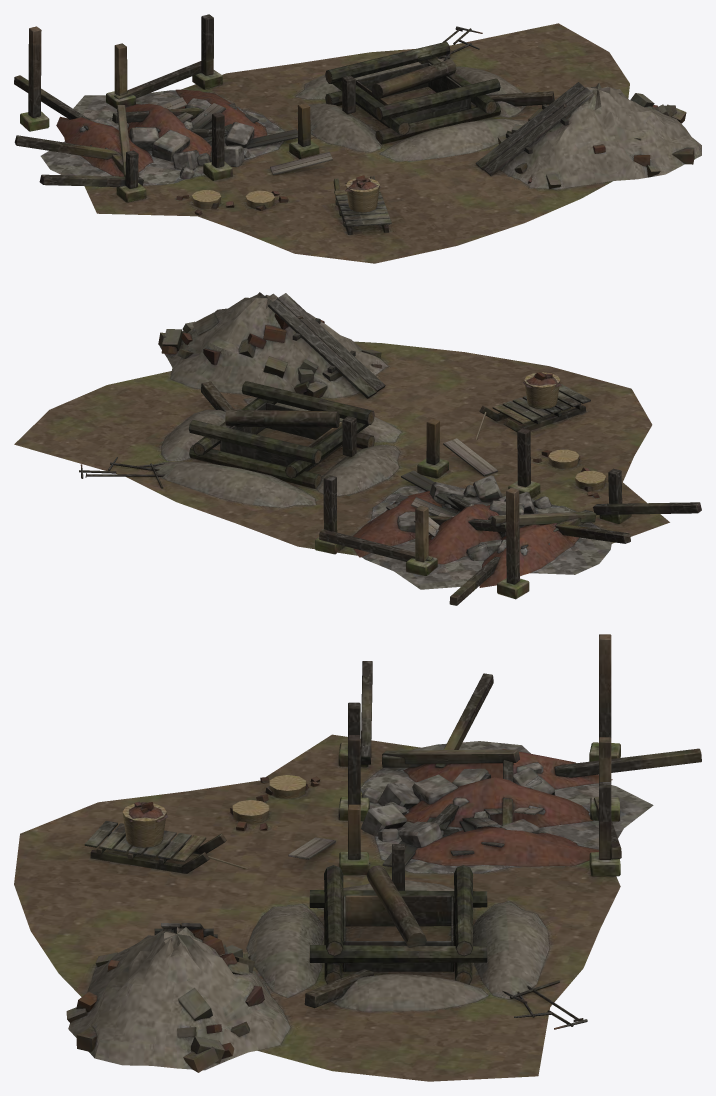
Rendered from mining_camp_ruin.glb.
3 views of the same model, one above another, from view 1: azimuth 30°, elevation 25°; view 2: azimuth 150°, elevation 25°; view 3: azimuth 270°, elevation 25° (orthographic). The views are drawn at different scales.
Visible parts, largest first — view 1: mining_camp_ruin_LOD0; view 2: mining_camp_ruin_LOD0; view 3: mining_camp_ruin_LOD0.
Boxes of the visible parts, x1,y1,x2,y2 form: mining_camp_ruin_LOD0: [14, 14, 701, 263]; mining_camp_ruin_LOD0: [14, 292, 701, 605]; mining_camp_ruin_LOD0: [14, 634, 701, 1081].
Size of what is drawn, in the model's own units: 11.98 by 1.88 by 9.32.
1 material, 1 textured.
